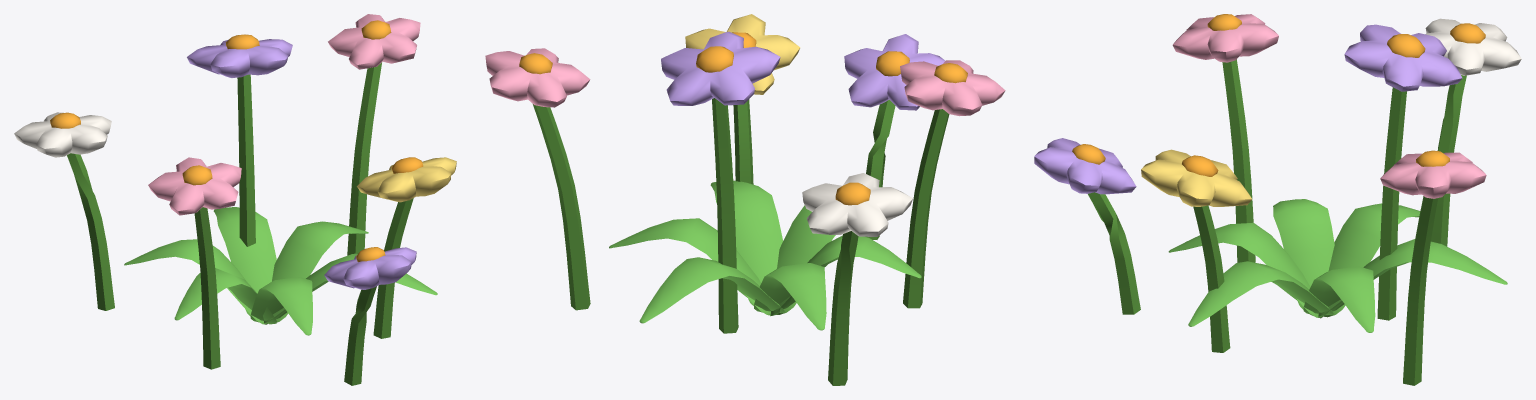
The model's file is prop_flowers.glb.
The picture shows the model from 3 angles, left to right: view 1: azimuth 30°, elevation 25°; view 2: azimuth 150°, elevation 25°; view 3: azimuth 270°, elevation 25°; orthographic projection. The views are drawn at different scales.
Visible parts, largest first — view 1: prop_flowers; view 2: prop_flowers; view 3: prop_flowers.
Part boxes in pixels (<box>): prop_flowers: <box>14,14,456,385</box>; prop_flowers: <box>485,14,1005,385</box>; prop_flowers: <box>1034,14,1521,385</box>.
Size of the model in its own units: 0.7612 by 0.4955 by 0.7649.
